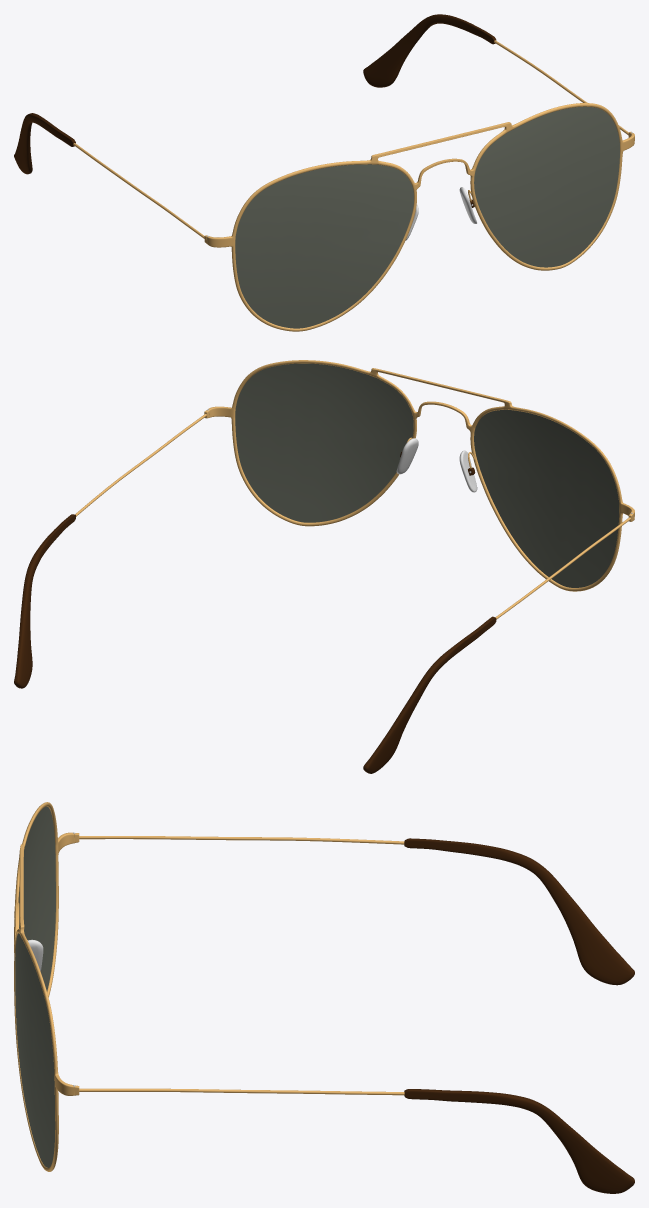
Rendered from Sunglasses.fbx.
The picture shows the model from 3 angles, top to bottom: view 1: azimuth 30°, elevation 25°; view 2: azimuth 150°, elevation 25°; view 3: azimuth 270°, elevation 25°; orthographic projection. The views are drawn at different scales.
Parts seen in each view (by area): view 1: Aviators; view 2: Aviators; view 3: Aviators.
Boxes of the visible parts, x1,y1,x2,y2 form: Aviators: (14, 14, 634, 331); Aviators: (14, 360, 634, 773); Aviators: (14, 802, 634, 1193).
Bounding box in the file's own units: 13.96 × 5.22 × 14.4.
